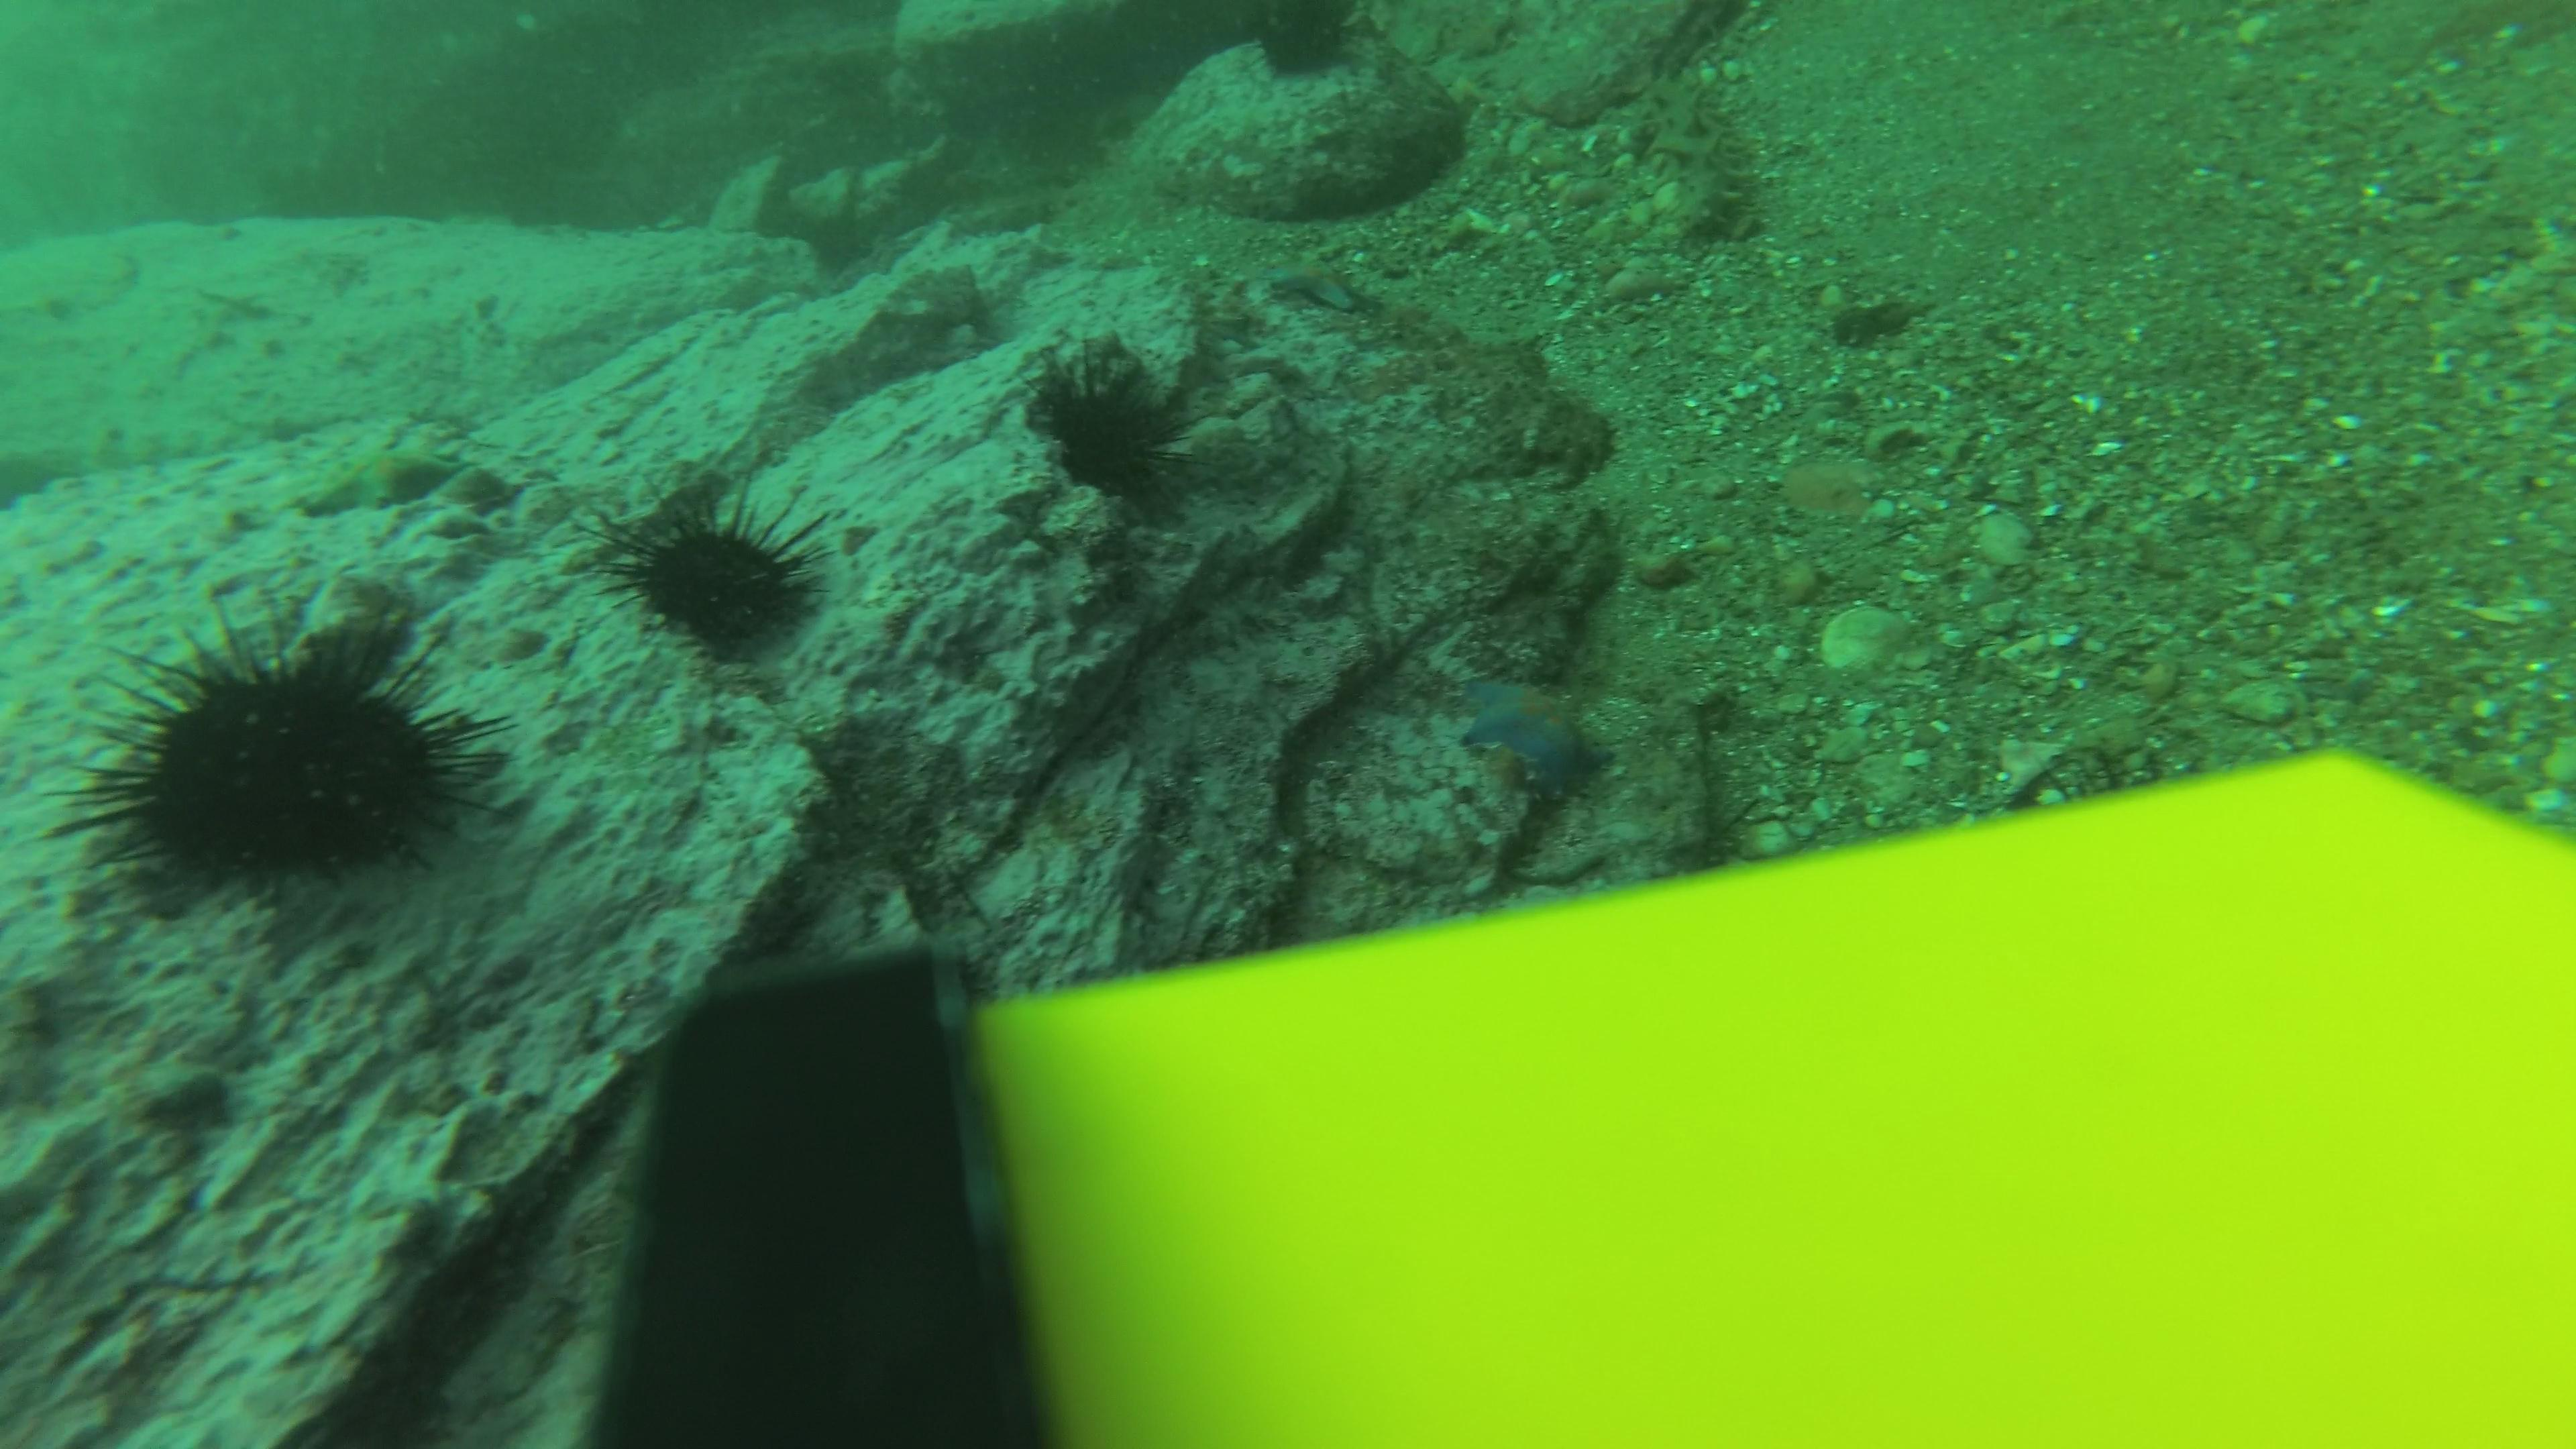urchin: (91, 581, 526, 898), (601, 474, 869, 667), (1017, 356, 1205, 546), (1226, 1, 1366, 74)
